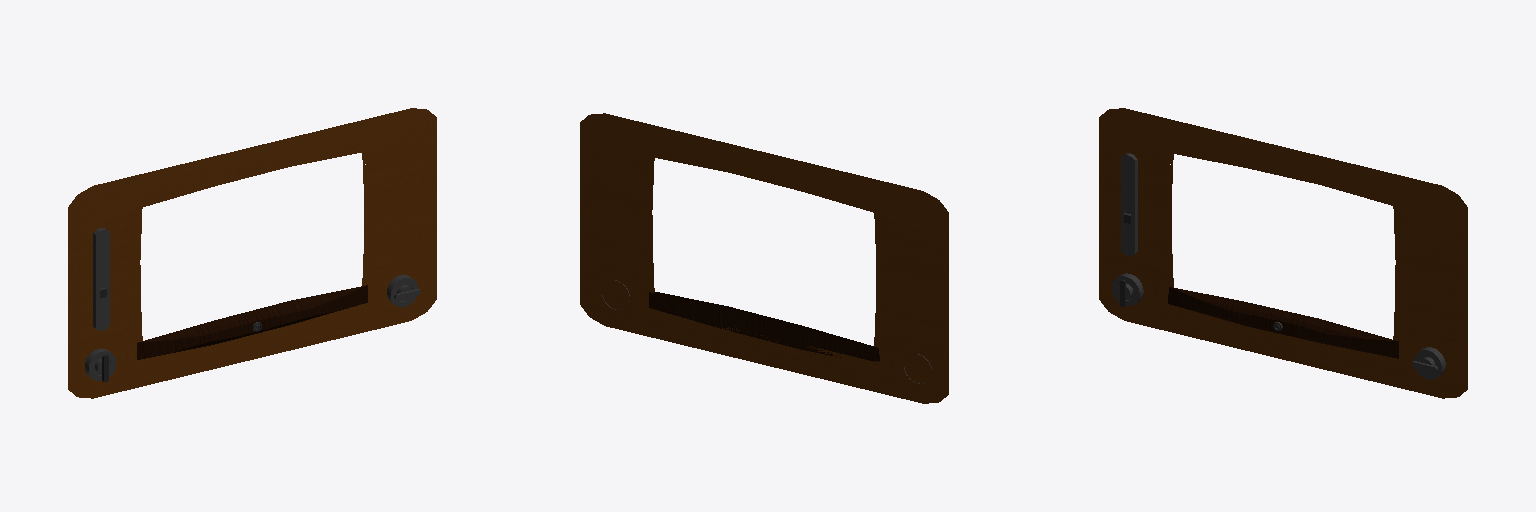
3 views of the same model, side by side, from view 1: azimuth 30°, elevation 25°; view 2: azimuth 150°, elevation 25°; view 3: azimuth 330°, elevation 25° (orthographic).
Parts seen in each view (by area): view 1: Plane, Circle.002, Circle.001, Circle; view 2: Plane; view 3: Plane, Circle.002, Circle.001, Circle.
Part boxes in pixels (x1,y1,x2,y2): Plane: (68, 108, 436, 398); Circle.002: (93, 228, 109, 330); Circle.001: (387, 275, 420, 307); Circle: (85, 348, 115, 381); Plane: (580, 113, 948, 403); Plane: (1099, 108, 1467, 398); Circle.002: (1121, 153, 1137, 255); Circle.001: (1412, 347, 1445, 379); Circle: (1112, 273, 1143, 306).
Size of the model in its own units: 7.07 by 3.9 by 0.2667.
Materials: 2 (1 with a texture image).